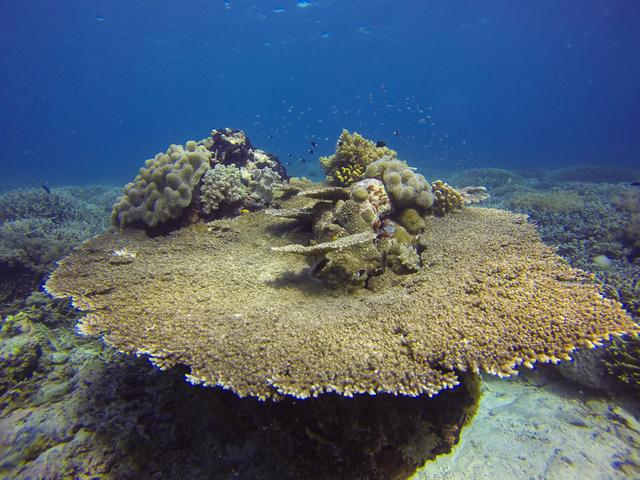fish: (391, 129, 408, 140)
